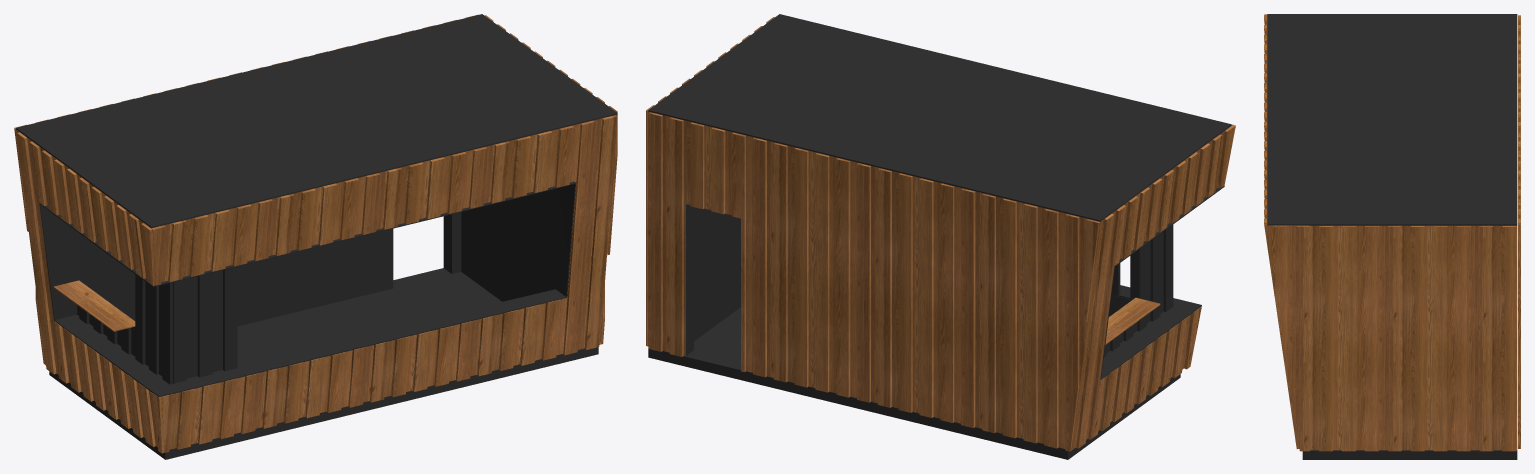
The model's file is Puesto2.fbx.
The picture shows the model from 3 angles, left to right: view 1: azimuth 30°, elevation 25°; view 2: azimuth 150°, elevation 25°; view 3: azimuth 270°, elevation 25°; orthographic projection. The views are drawn at different scales.
Visible parts, largest first — view 1: pCube5; view 2: pCube5; view 3: pCube5.
Boxes of the visible parts, box(x1,y1,x2,y2) form: pCube5: box(14, 14, 617, 459); pCube5: box(646, 14, 1235, 459); pCube5: box(1264, 14, 1520, 459).
Bounding box in the file's own units: 285 × 147 × 146.
2 materials, 1 textured.
